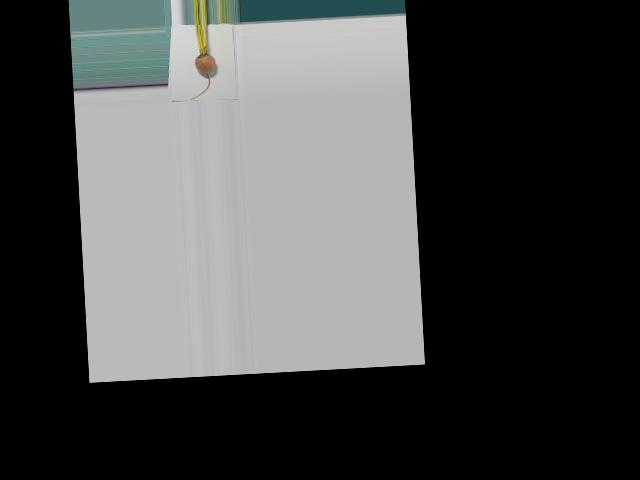beet: (187, 23, 217, 99)
